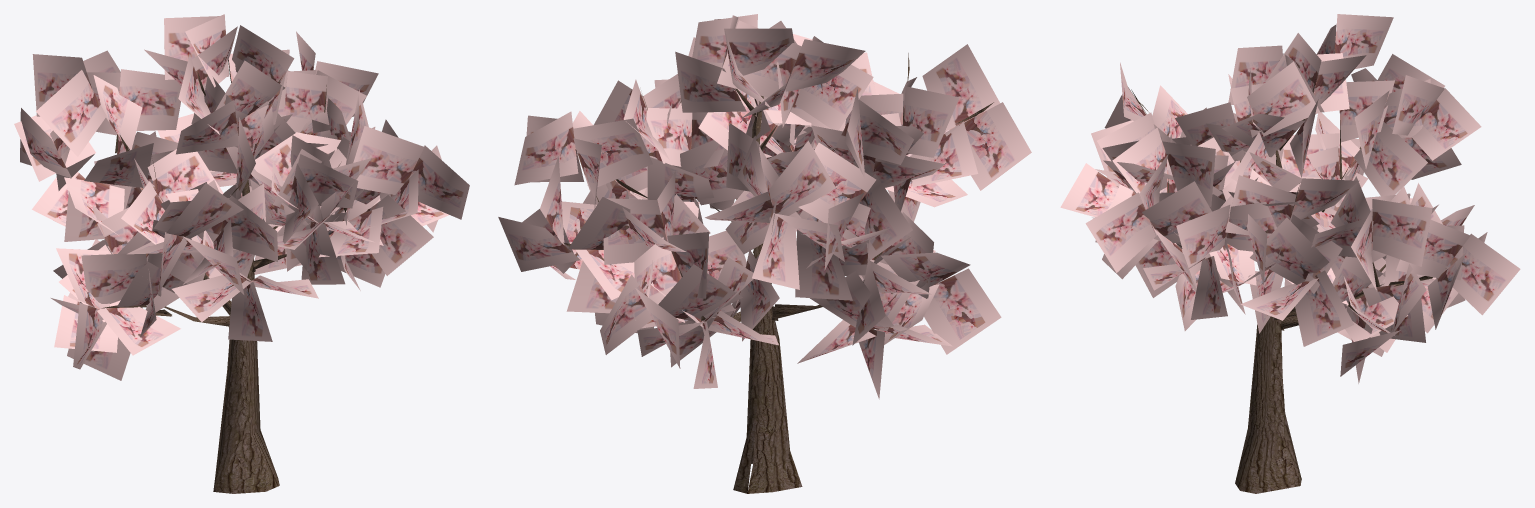
The model's file is maple_tree3_lowpoly.glb.
3 renders of one model, left to right at view 1: azimuth 30°, elevation 25°; view 2: azimuth 150°, elevation 25°; view 3: azimuth 270°, elevation 25°, orthographic. The views are drawn at different scales.
Visible parts, largest first — view 1: Sakura_Sakura_Mat_0, Sakura_Bark001_2K_JPG_Mat_0; view 2: Sakura_Sakura_Mat_0, Sakura_Bark001_2K_JPG_Mat_0; view 3: Sakura_Sakura_Mat_0, Sakura_Bark001_2K_JPG_Mat_0.
Boxes of the visible parts, x1=… form: Sakura_Sakura_Mat_0: x1=14, y1=14, x2=469, y2=380; Sakura_Bark001_2K_JPG_Mat_0: x1=101, y1=57, x2=368, y2=493; Sakura_Sakura_Mat_0: x1=498, y1=14, x2=1031, y2=399; Sakura_Bark001_2K_JPG_Mat_0: x1=563, y1=53, x2=993, y2=493; Sakura_Sakura_Mat_0: x1=1060, y1=14, x2=1520, y2=383; Sakura_Bark001_2K_JPG_Mat_0: x1=1131, y1=79, x2=1446, y2=493.
Size of the model in its own units: 35.34 by 39.41 by 38.33.
Materials: 2 (2 with a texture image).
